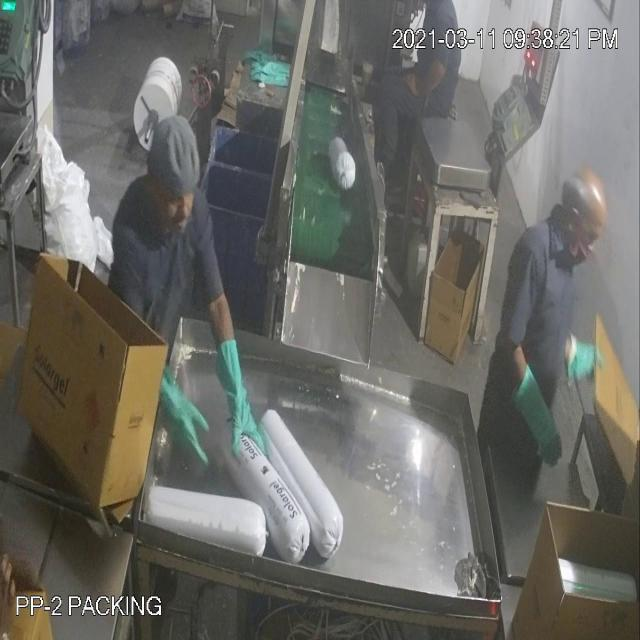Gloves: (52, 46, 540, 414)
